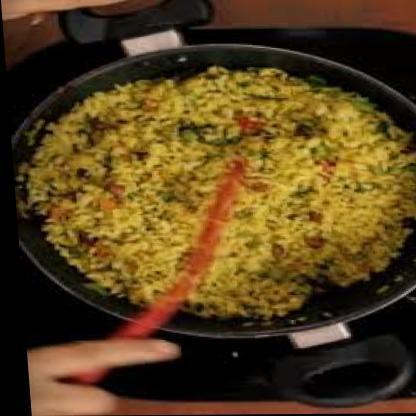poha: (16, 65, 416, 320)
